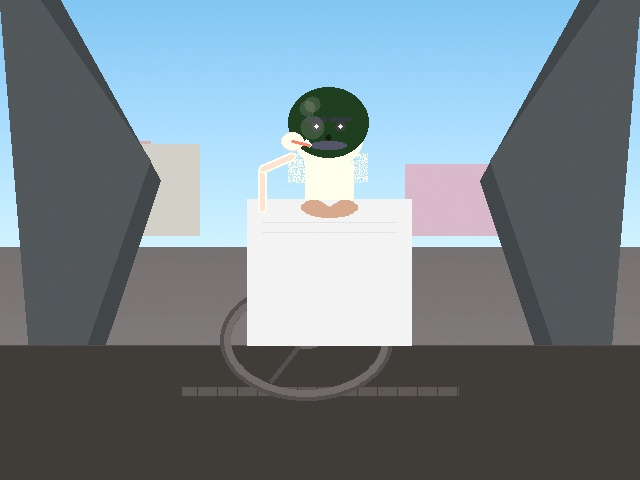smoking: (282, 126, 316, 156)
